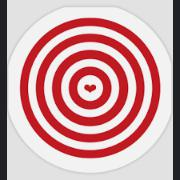bulls eye: (18, 18, 164, 160)
